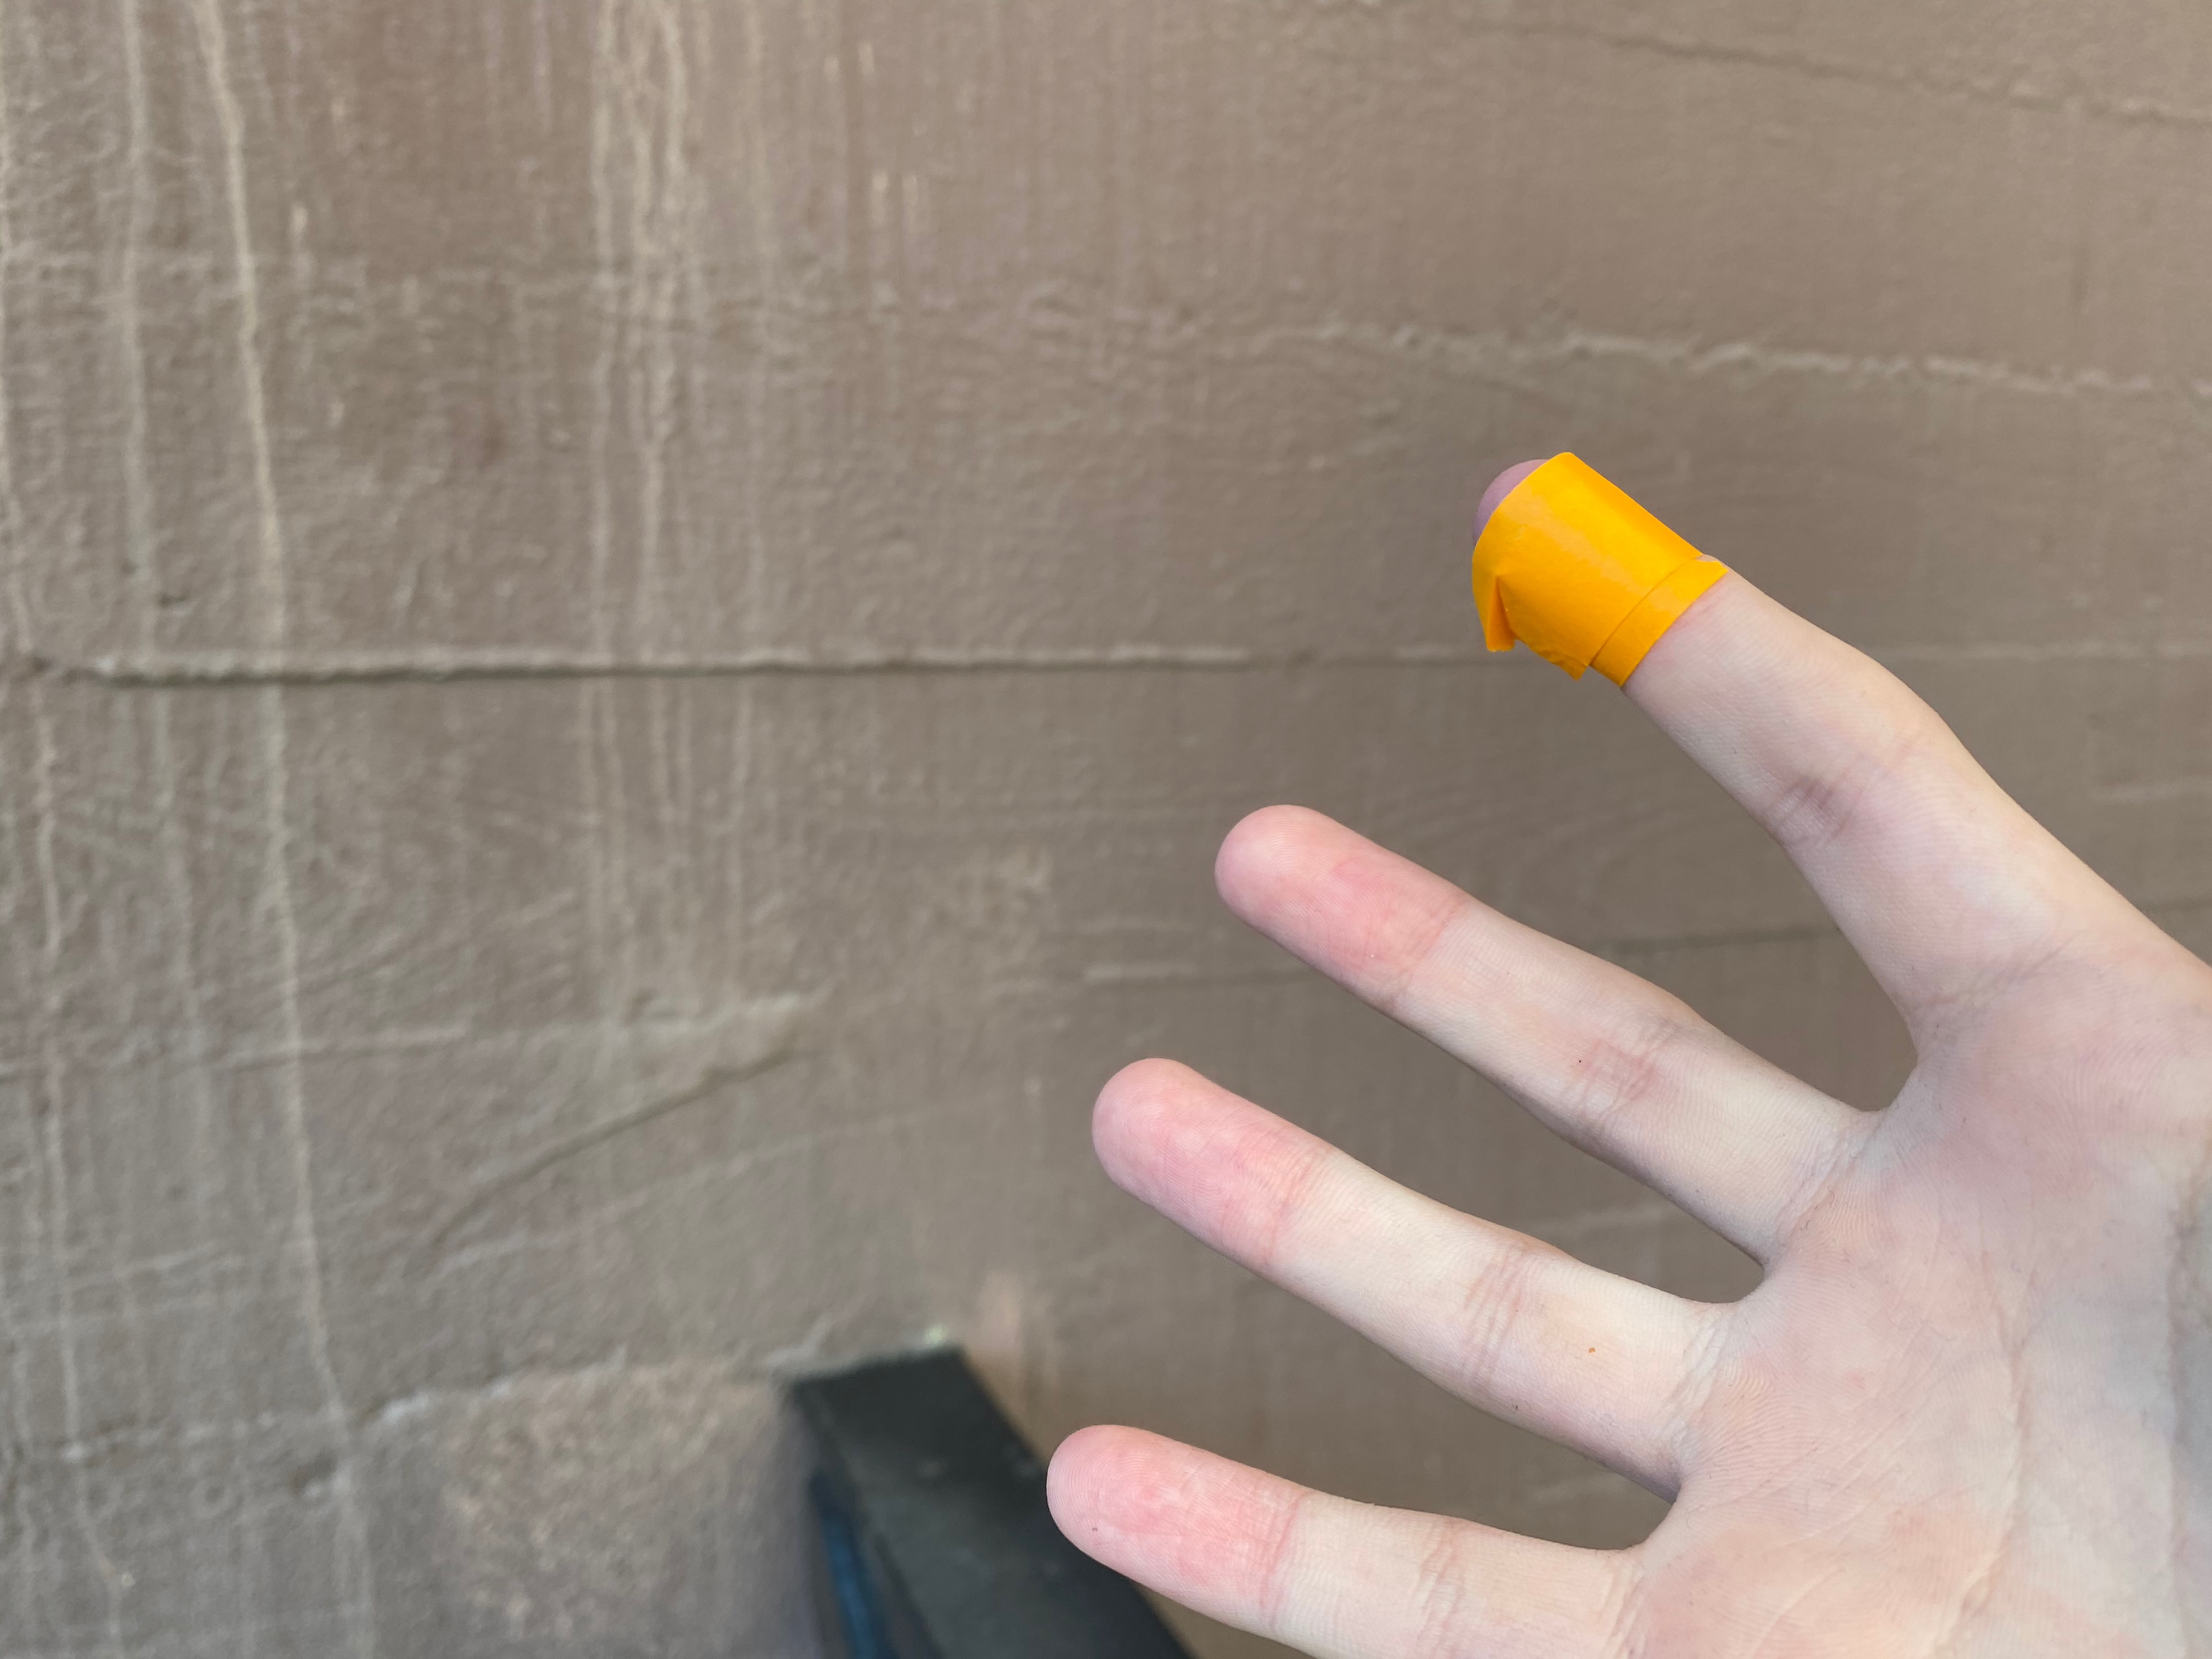fingertip: (1444, 439, 1696, 711)
